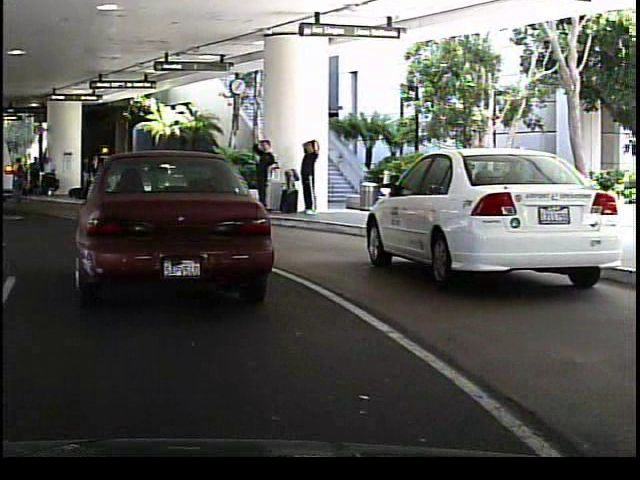person: (247, 131, 275, 214), (295, 133, 320, 217), (300, 147, 322, 212), (140, 155, 158, 196)
